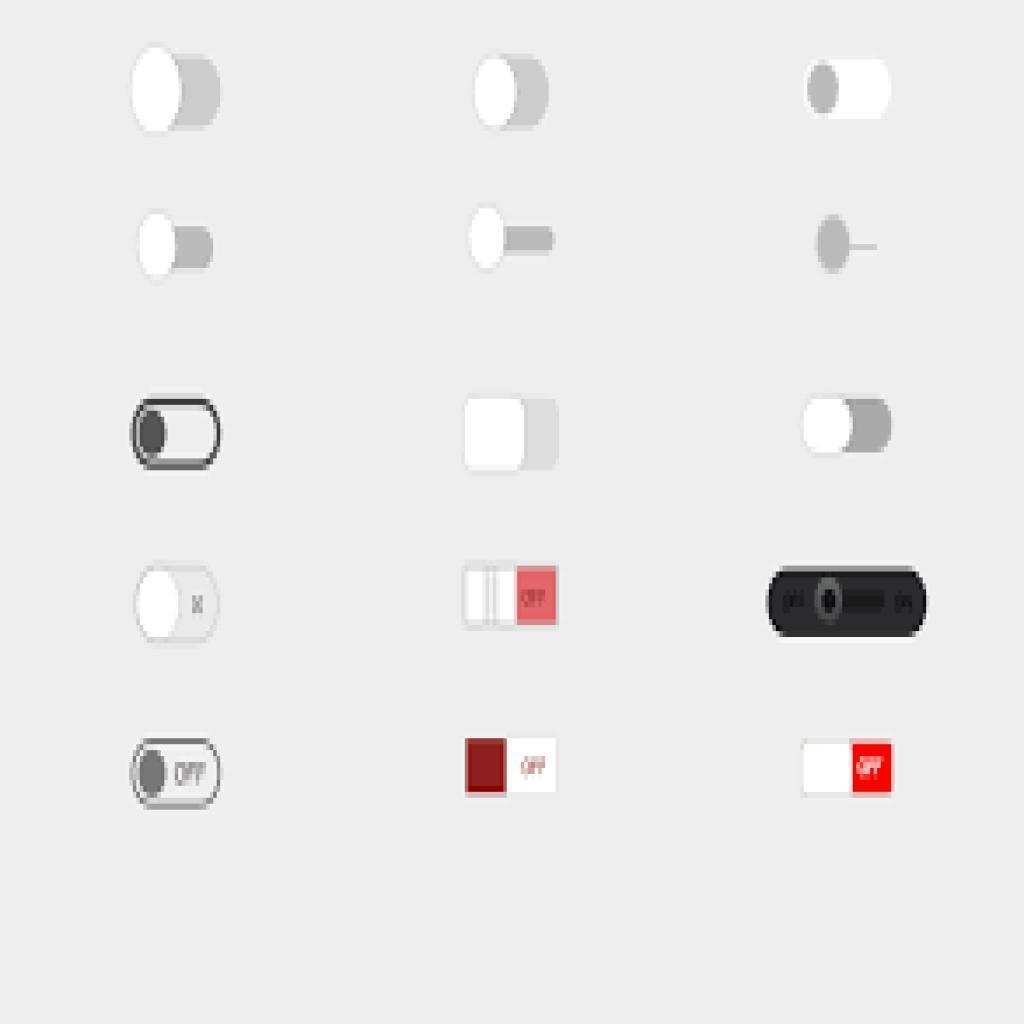label: (811, 215, 890, 273)
switch: (767, 567, 924, 638), (463, 396, 564, 473), (131, 48, 221, 134), (470, 52, 550, 134), (462, 561, 560, 627), (468, 204, 557, 276), (138, 565, 222, 641), (132, 399, 221, 470), (804, 57, 897, 123), (133, 740, 220, 810), (463, 735, 558, 795), (803, 397, 893, 457), (138, 214, 215, 283), (799, 741, 892, 795)
